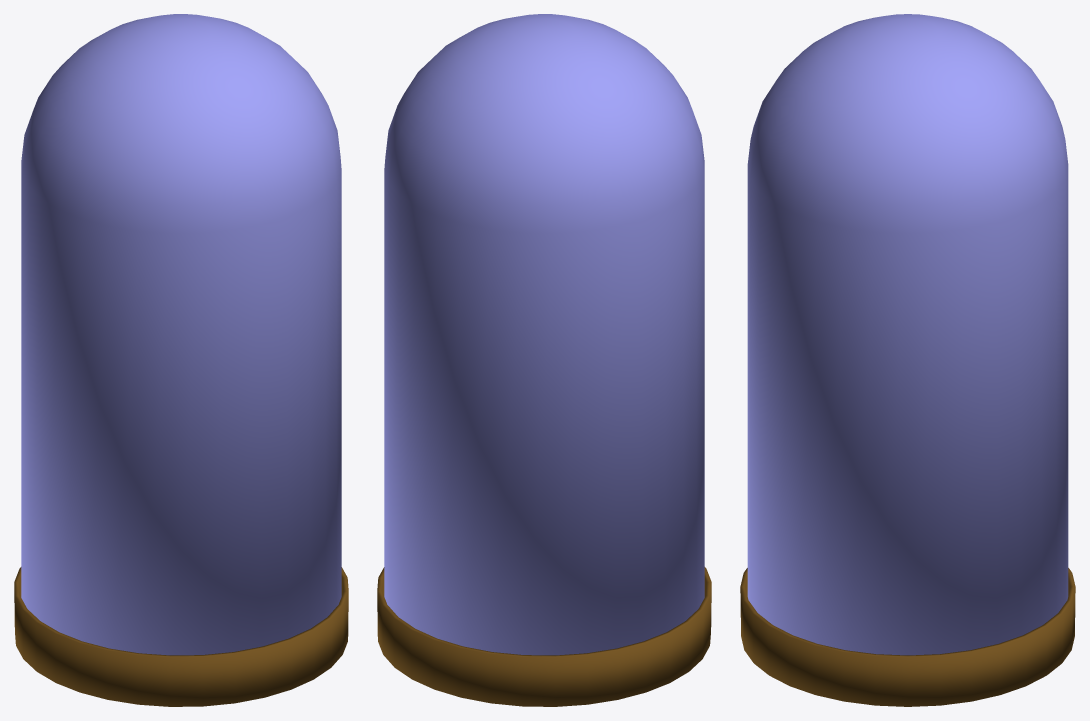
File: Glass_dome_1.fbx
3 views of the same model, side by side, from view 1: azimuth 30°, elevation 25°; view 2: azimuth 150°, elevation 25°; view 3: azimuth 270°, elevation 25° (orthographic).
Parts seen in each view (by area): view 1: Glass_dome_1; view 2: Glass_dome_1; view 3: Glass_dome_1.
Boxes of the visible parts, x1=… form: Glass_dome_1: x1=14, y1=14, x2=348, y2=706; Glass_dome_1: x1=377, y1=14, x2=711, y2=706; Glass_dome_1: x1=740, y1=14, x2=1075, y2=706.
Size of the model in its own units: 11 by 22 by 11.
